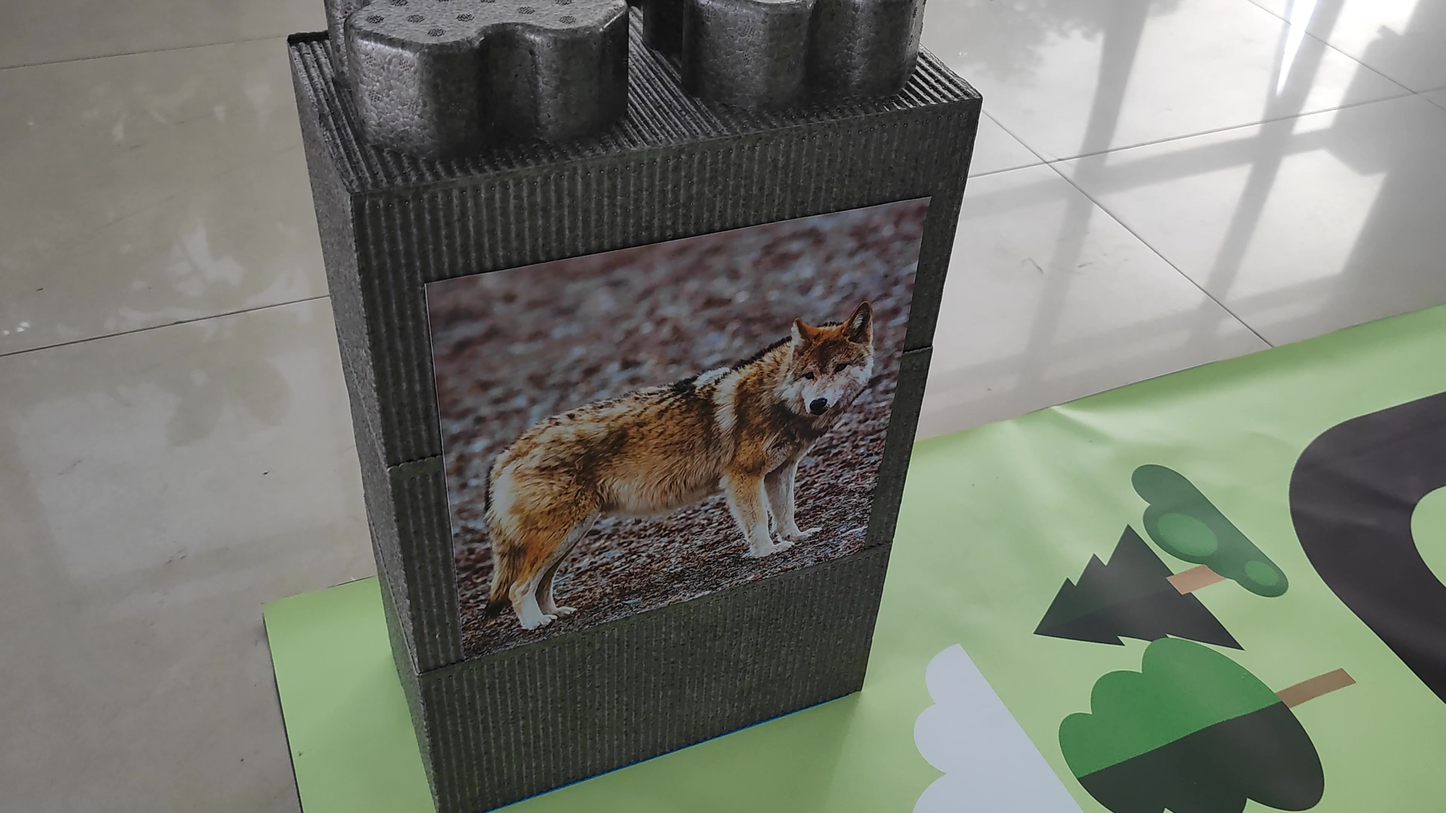wolf: (439, 292, 918, 646)
